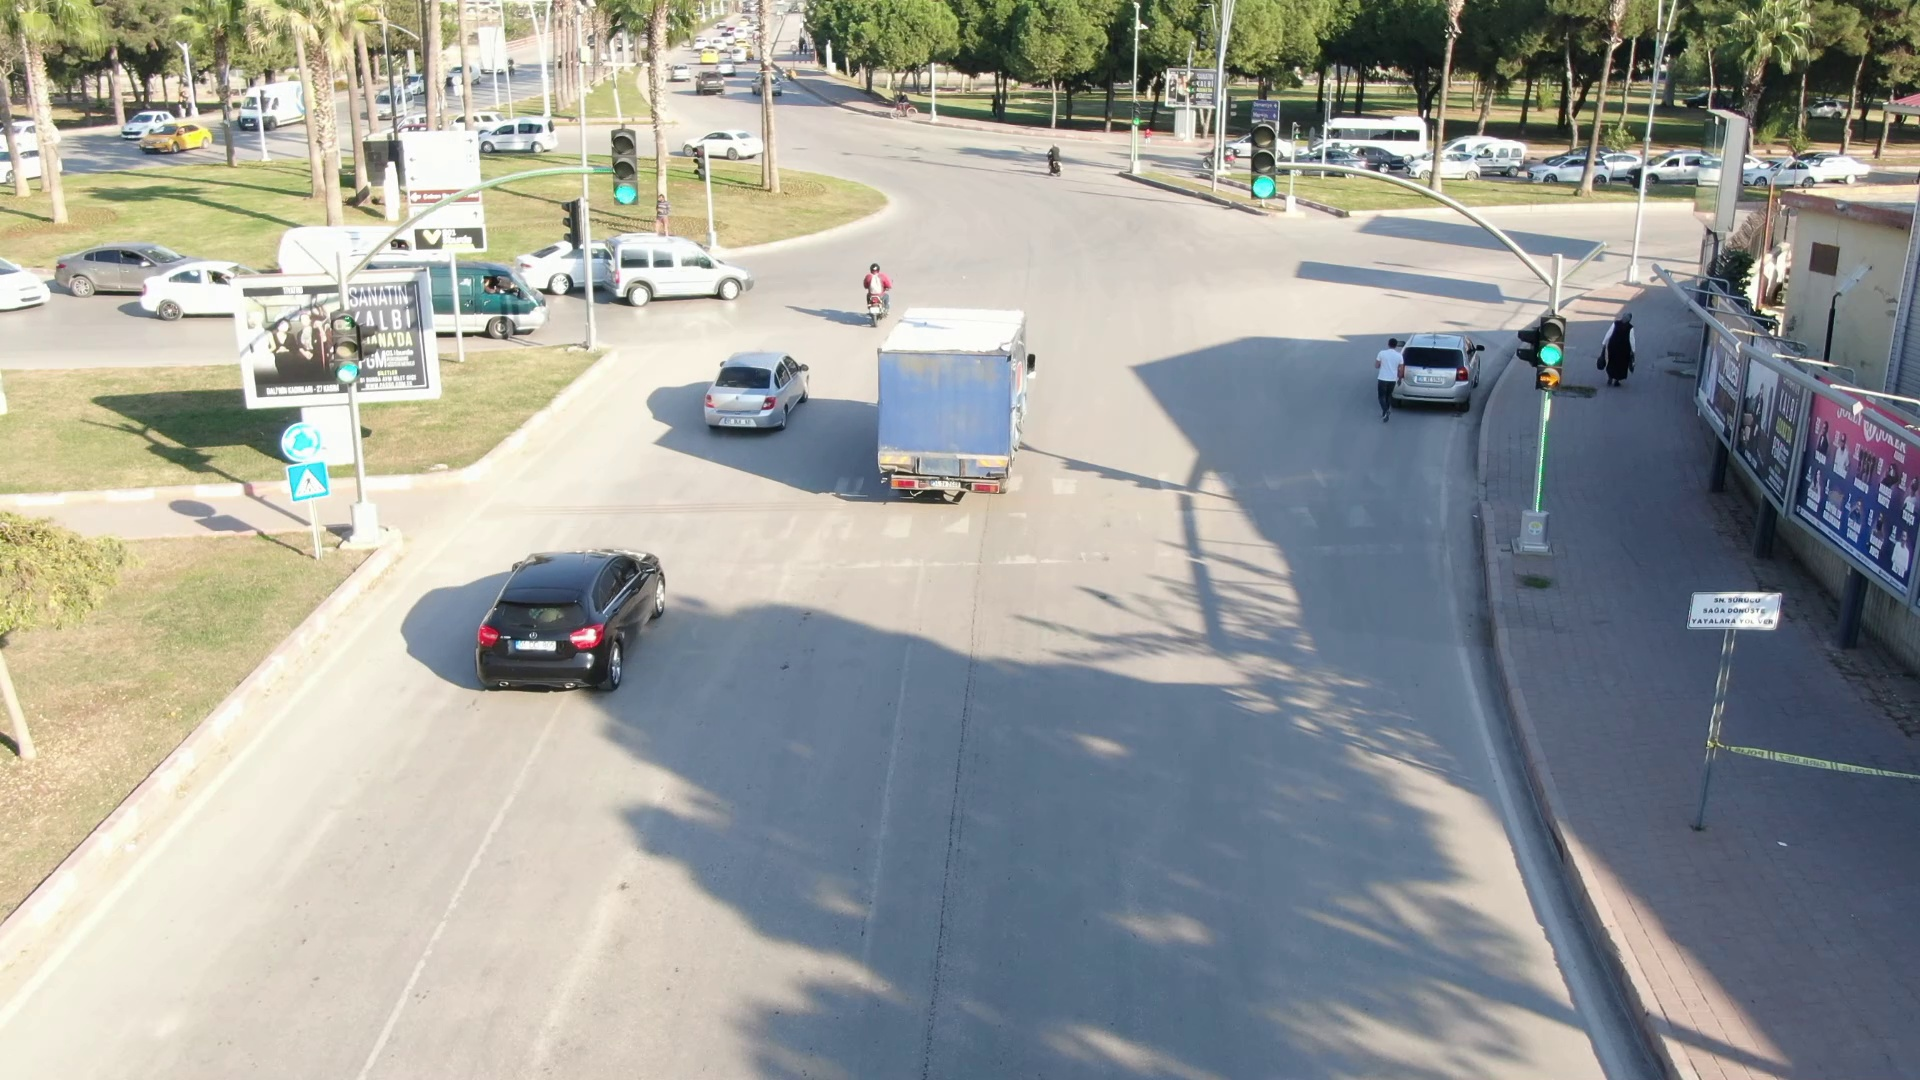car: (467, 523, 664, 697), (57, 234, 243, 330), (598, 228, 763, 313), (692, 337, 811, 437), (440, 257, 554, 343), (680, 109, 779, 170), (1515, 145, 1610, 188), (129, 105, 197, 159)
person: (1587, 305, 1648, 391), (1358, 324, 1408, 422)
